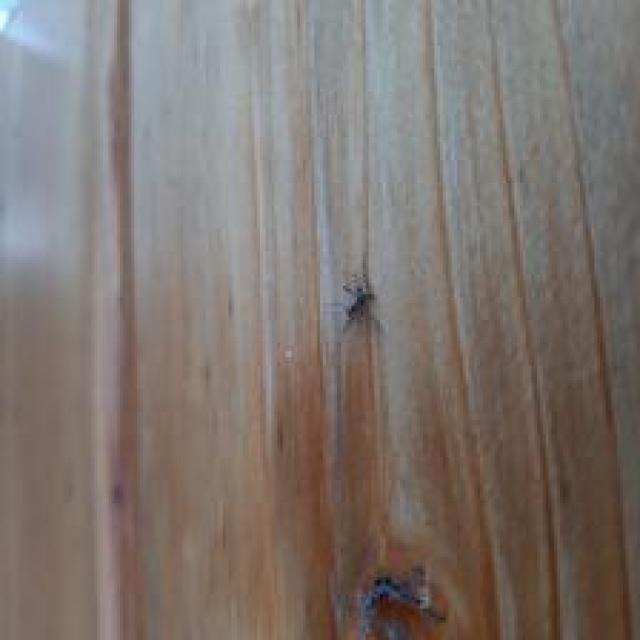Aedes albopictus: (340, 271, 374, 323)
